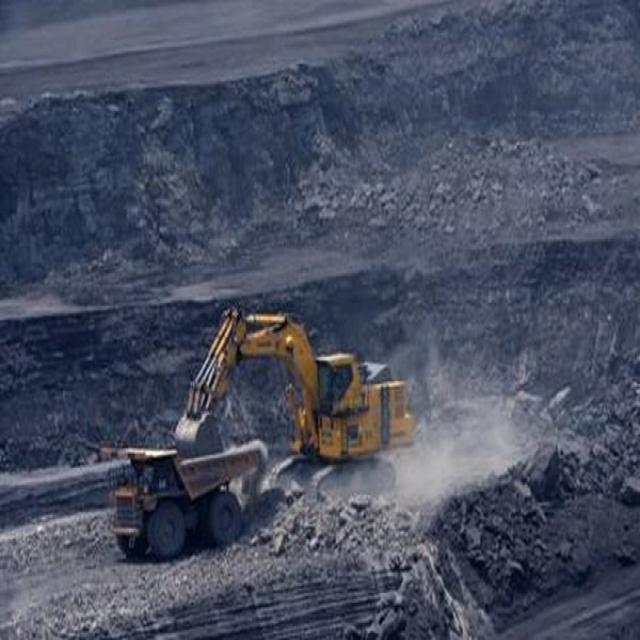dump_truck: (104, 451, 249, 557)
excavator: (178, 305, 424, 509)
